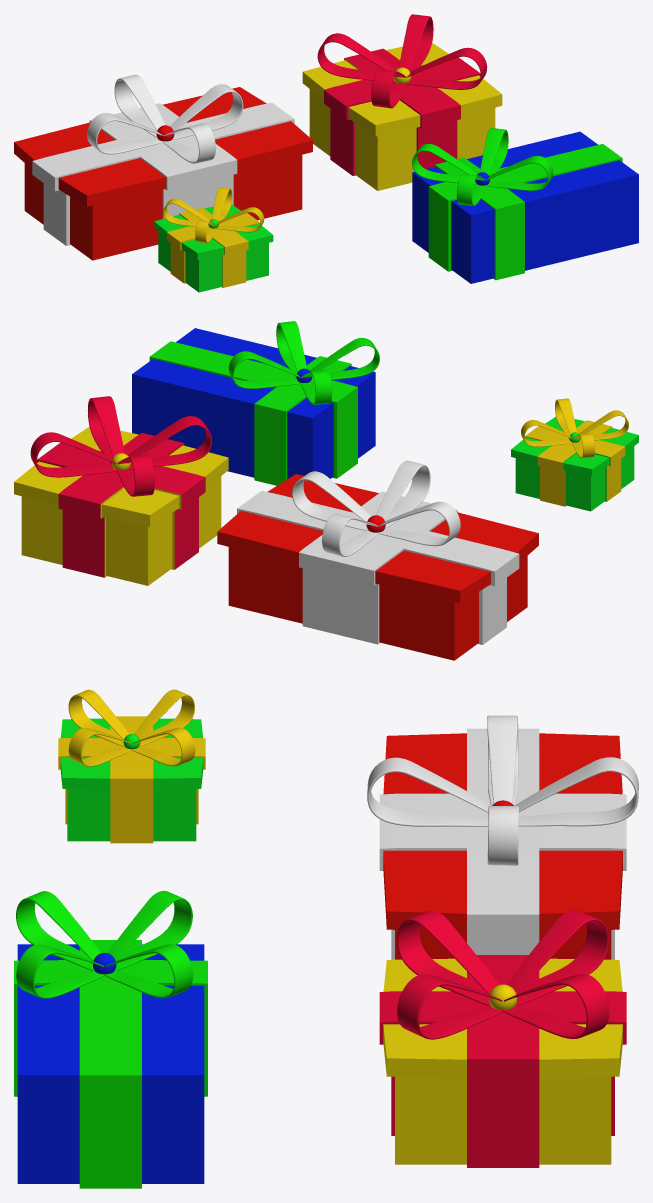
The model's file is Kado.fbx.
3 renders of one model, top to bottom at view 1: azimuth 30°, elevation 25°; view 2: azimuth 150°, elevation 25°; view 3: azimuth 270°, elevation 25°, orthographic. The views are drawn at different scales.
Visible parts, largest first — view 1: Cube.054, Cube.055, Cube.053, Cube.001, BézierCircle.005, BézierCircle.006, BézierCircle.003, BézierCircle.004, BézierCircle.002, BézierCircle.008, BézierCircle.007, BézierCircle.001 (+7 smaller); view 2: Cube.054, Cube.055, Cube.053, Cube.001, BézierCircle.007, BézierCircle.006, BézierCircle.002, BézierCircle.001, BézierCircle.003, BézierCircle.008, BézierCircle.005, BézierCircle.004 (+7 smaller); view 3: Cube.055, Cube.054, Cube.053, Cube.001, BézierCircle.001, BézierCircle.004, BézierCircle.007, BézierCircle.005, BézierCircle.002, BézierCircle.012, BézierCircle.003, BézierCircle.009 (+8 smaller).
Boxes of the visible parts, x1,y1,x2,y2 form: Cube.054: [14, 87, 312, 260]; Cube.055: [412, 131, 638, 283]; Cube.053: [302, 43, 502, 190]; Cube.001: [154, 204, 273, 292]; BézierCircle.005: [114, 74, 165, 137]; BézierCircle.006: [170, 84, 243, 139]; BézierCircle.003: [399, 14, 433, 76]; BézierCircle.004: [317, 33, 395, 82]; BézierCircle.002: [406, 47, 487, 89]; BézierCircle.008: [87, 113, 162, 154]; BézierCircle.007: [163, 123, 215, 163]; BézierCircle.001: [371, 69, 406, 108]; Cube.054: [217, 474, 538, 660]; Cube.055: [132, 328, 375, 485]; Cube.053: [14, 426, 228, 585]; Cube.001: [511, 416, 638, 511]; BézierCircle.007: [376, 460, 430, 528]; BézierCircle.006: [292, 471, 370, 530]; BézierCircle.002: [87, 396, 124, 463]; BézierCircle.001: [128, 416, 212, 469]; BézierCircle.003: [30, 432, 116, 477]; BézierCircle.008: [378, 501, 460, 546]; BézierCircle.005: [322, 513, 378, 556]; BézierCircle.004: [117, 455, 154, 496]; Cube.055: [14, 940, 207, 1188]; Cube.054: [379, 728, 626, 959]; Cube.053: [379, 955, 626, 1167]; Cube.001: [58, 716, 205, 843]; BézierCircle.001: [396, 910, 498, 1005]; BézierCircle.004: [507, 910, 608, 1005]; BézierCircle.007: [367, 757, 491, 826]; BézierCircle.005: [515, 757, 638, 826]; BézierCircle.002: [397, 974, 502, 1039]; BézierCircle.012: [16, 891, 100, 970]; BézierCircle.003: [503, 974, 609, 1038]; BézierCircle.009: [108, 890, 192, 970].
Bounding box in the file's own units: 75.46 × 17.68 × 57.56.
